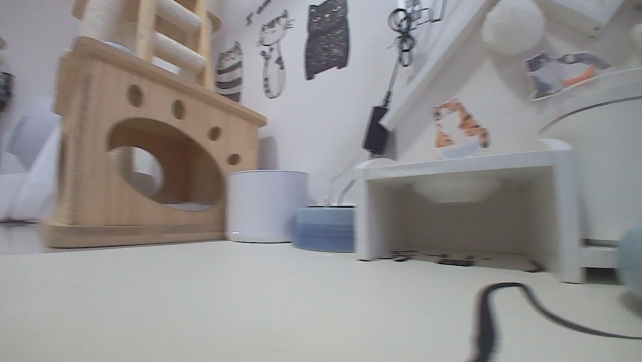blanket: (0, 236, 641, 361)
